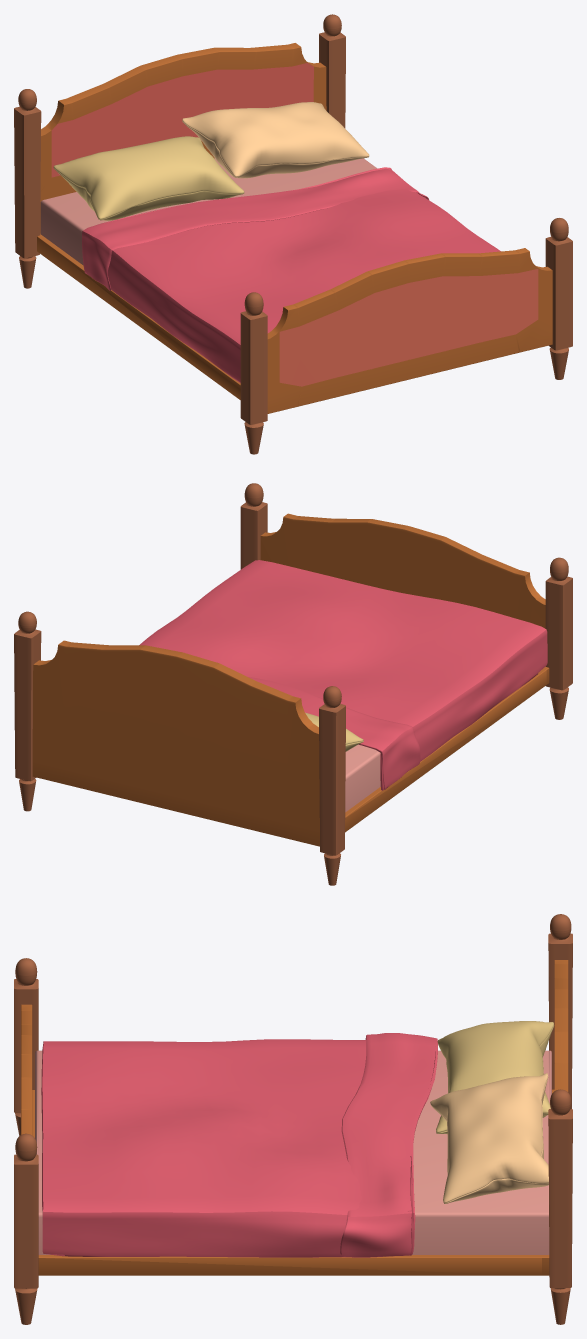
File: Furniture_Bed.fbx
The picture shows the model from 3 angles, top to bottom: view 1: azimuth 30°, elevation 25°; view 2: azimuth 150°, elevation 25°; view 3: azimuth 270°, elevation 25°; orthographic projection. The views are drawn at different scales.
Parts seen in each view (by area): view 1: Frame, Bed Cover, Plane, Plane.001, Bed post feet, Bed post head, Mattress; view 2: Frame, Bed Cover, Bed post head, Bed post feet, Mattress; view 3: Bed Cover, Frame, Mattress, Plane.001, Bed post head, Bed post feet, Plane.
Part boxes in pixels (x1,y1,x2,y2): Frame: [37, 43, 552, 413]; Bed Cover: [82, 167, 500, 382]; Plane: [53, 136, 244, 220]; Plane.001: [182, 102, 369, 178]; Bed post feet: [240, 218, 572, 454]; Bed post head: [14, 14, 345, 288]; Mattress: [40, 158, 377, 265]; Frame: [32, 513, 549, 846]; Bed Cover: [139, 560, 547, 790]; Bed post head: [14, 611, 345, 885]; Bed post feet: [240, 483, 572, 719]; Mattress: [345, 744, 380, 812]; Bed Cover: [41, 1033, 437, 1257]; Frame: [21, 960, 568, 1275]; Mattress: [35, 1050, 551, 1254]; Plane.001: [430, 1073, 548, 1203]; Bed post head: [548, 914, 572, 1324]; Bed post feet: [14, 958, 38, 1324]; Plane: [436, 1021, 553, 1134].
Bounding box in the file's own units: 173 × 101 × 220.
